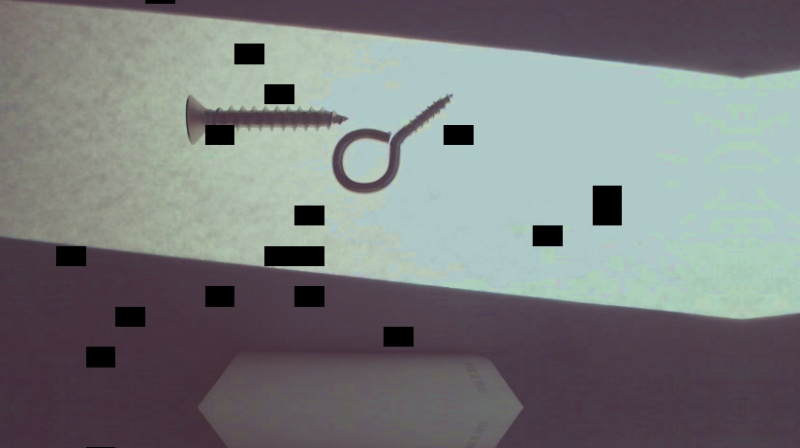O001: (331, 90, 456, 193)
S001: (182, 93, 350, 141)
